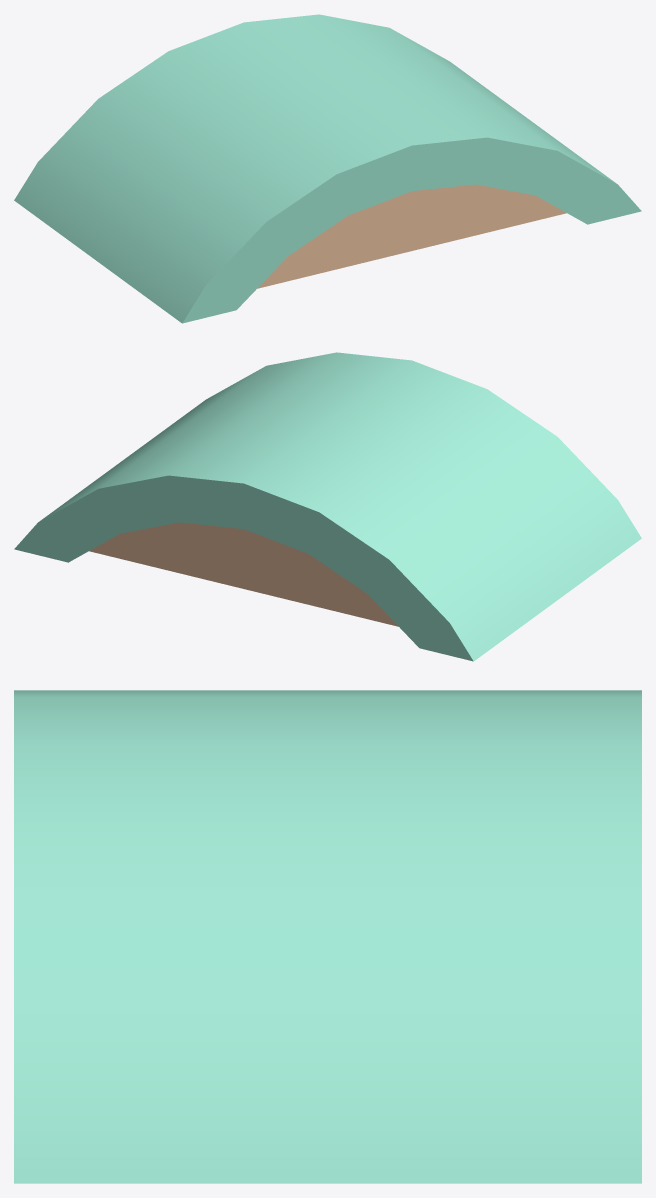
3 views of the same model, one above another, from view 1: azimuth 30°, elevation 25°; view 2: azimuth 150°, elevation 25°; view 3: azimuth 270°, elevation 25° (orthographic). The views are drawn at different scales.
Parts seen in each view (by area): view 1: blockCurveLow; view 2: blockCurveLow; view 3: blockCurveLow.
Boxes of the visible parts, <box> form: blockCurveLow: <box>14,14,641,323</box>; blockCurveLow: <box>14,352,641,661</box>; blockCurveLow: <box>14,690,641,1183</box>.
Size of the model in its own units: 1.58 by 0.4 by 1.
